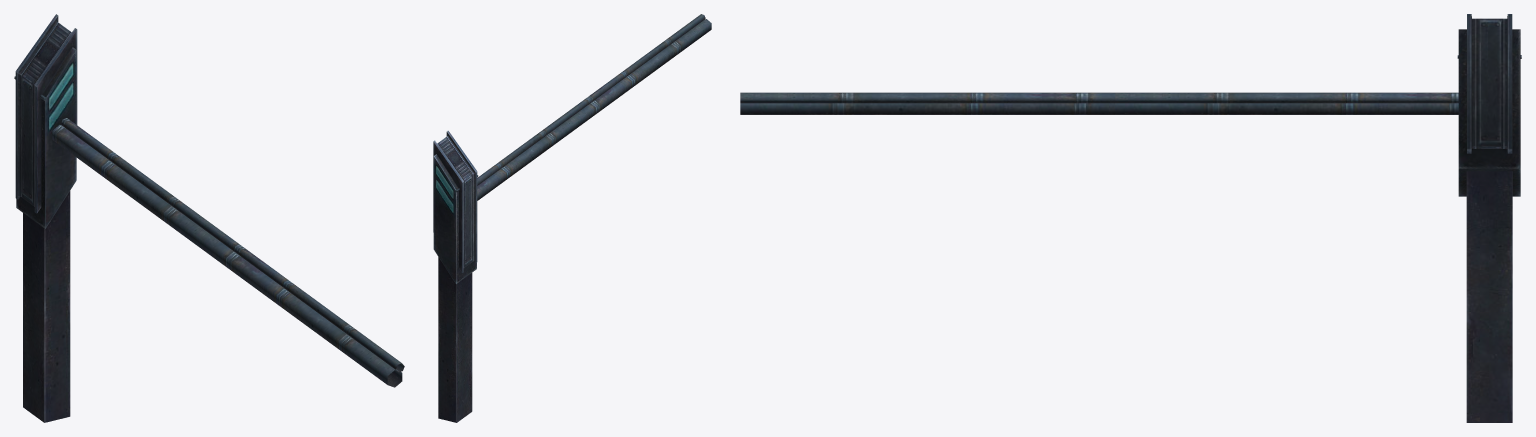
Rendered from yw_huanghunzhihu_tiewujian03.FBX.
3 renders of one model, left to right at view 1: azimuth 30°, elevation 25°; view 2: azimuth 150°, elevation 25°; view 3: azimuth 270°, elevation 25°, orthographic. The views are drawn at different scales.
Visible parts, largest first — view 1: yw_huanghunzhihu_tiewujian03; view 2: yw_huanghunzhihu_tiewujian03; view 3: yw_huanghunzhihu_tiewujian03.
Boxes of the visible parts, x1=… form: yw_huanghunzhihu_tiewujian03: x1=14, y1=14, x2=404, y2=422; yw_huanghunzhihu_tiewujian03: x1=433, y1=14, x2=711, y2=422; yw_huanghunzhihu_tiewujian03: x1=740, y1=14, x2=1521, y2=422.
Size of the model in its own units: 65.15 by 593 by 1017.
